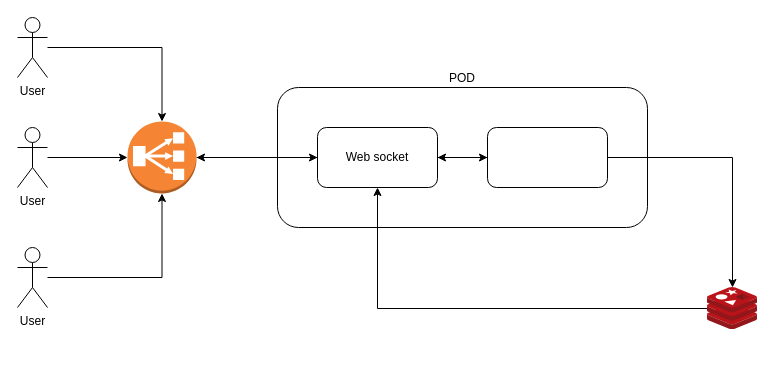
Some shapes in this 784 by 368 pixel diagram are drawn without their labels. The centre of each missing label's shape, as x and y in pixels:
Gameloop: pixel 547 157
Nginx Load Balancer: pixel 161 157
Redis Cache: pixel 732 308
